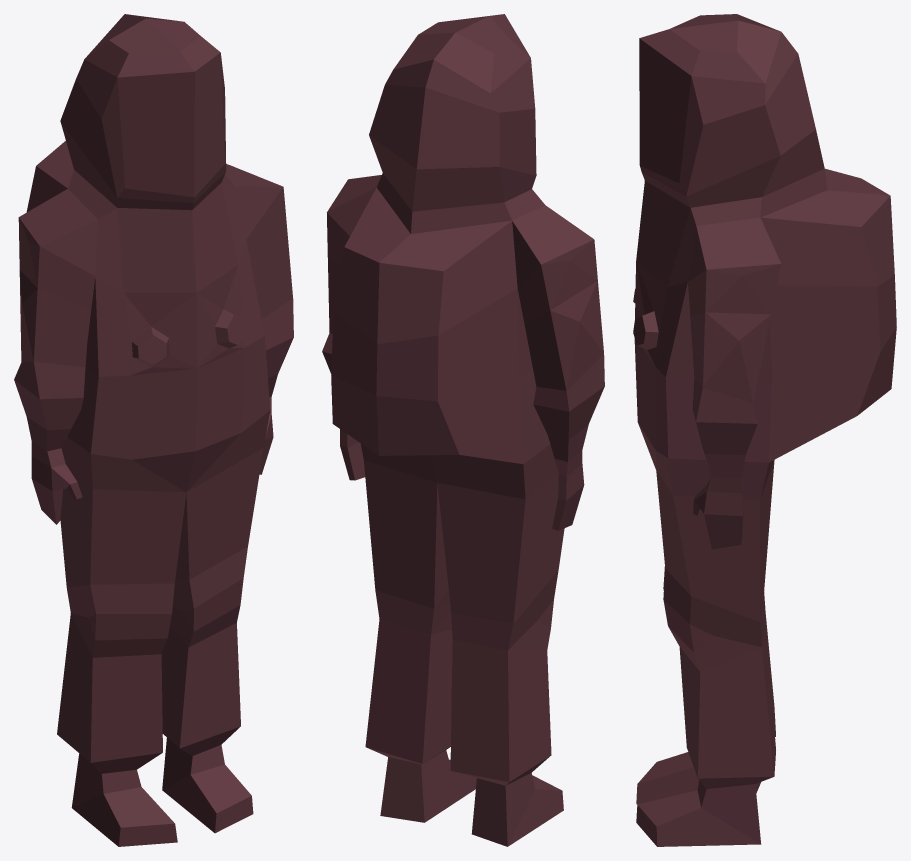
Rendered from man-hazmat.fbx.
3 views of the same model, side by side, from view 1: azimuth 30°, elevation 25°; view 2: azimuth 150°, elevation 25°; view 3: azimuth 270°, elevation 25° (orthographic).
Visible parts, largest first — view 1: man-hazmat; view 2: man-hazmat; view 3: man-hazmat.
Part boxes in pixels (x1,y1,x2,y2): man-hazmat: (14,14,293,846); man-hazmat: (322,14,604,846); man-hazmat: (633,14,896,846).
Size of the model in its own units: 0.6577 by 1.9 by 0.5716.
